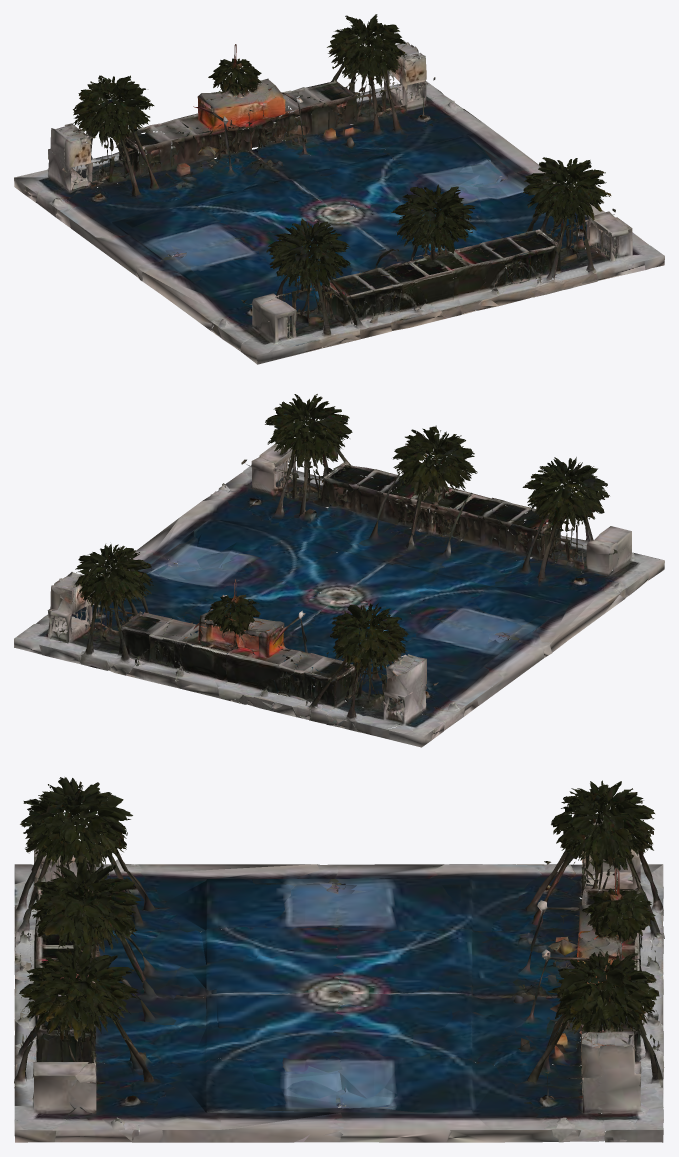
The model's file is venice-blue-court.glb.
The picture shows the model from 3 angles, top to bottom: view 1: azimuth 30°, elevation 25°; view 2: azimuth 150°, elevation 25°; view 3: azimuth 270°, elevation 25°; orthographic projection. The views are drawn at different scales.
Parts seen in each view (by area): view 1: Mesh_0; view 2: Mesh_0; view 3: Mesh_0.
Boxes of the visible parts, box(x1,y1,x2,y2) form: Mesh_0: box(14, 14, 664, 364); Mesh_0: box(14, 394, 664, 747); Mesh_0: box(14, 777, 664, 1142).
Size of the model in its own units: 1.86 by 0.4605 by 1.91.
1 material, 1 textured.
